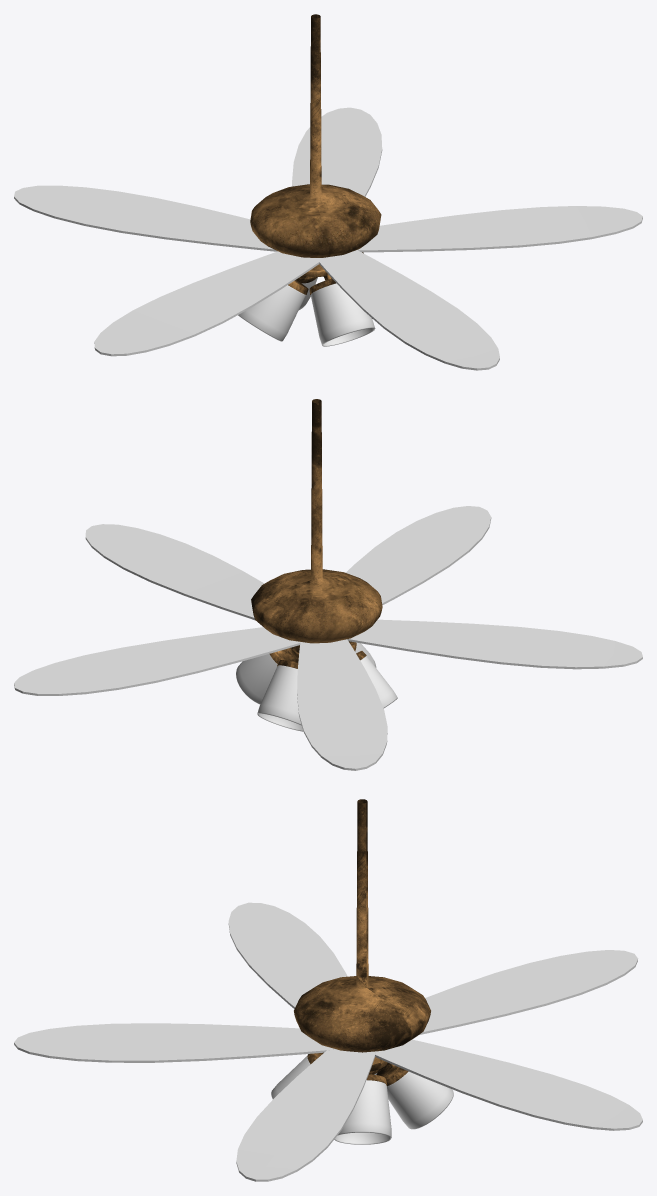
The model's file is ceilingFan.fbx.
The picture shows the model from 3 angles, top to bottom: view 1: azimuth 30°, elevation 25°; view 2: azimuth 150°, elevation 25°; view 3: azimuth 270°, elevation 25°; orthographic projection. The views are drawn at different scales.
Visible parts, largest first — view 1: ceilingFan, fanBlade4, fanBlade5, fanBlade, fanBlade3, fanBlade2, light, light.002; view 2: ceilingFan, fanBlade2, fanBlade4, fanBlade3, fanBlade, fanBlade5, light.003, light.001, light.002; view 3: ceilingFan, fanBlade2, fanBlade5, fanBlade, fanBlade3, fanBlade4, light.003, light.001.
Boxes of the visible parts, x1,y1,x2,y2 form: ceilingFan: (250,14,381,276); fanBlade4: (94,251,325,356); fanBlade5: (316,250,499,370); fanBlade: (357,206,642,252); fanBlade3: (14,185,277,251); fanBlade2: (292,107,382,196); light: (310,283,375,346); light.002: (238,285,305,341); ceilingFan: (251,399,382,658); fanBlade2: (14,627,302,695); fanBlade4: (347,619,642,669); fanBlade3: (297,639,387,770); fanBlade: (85,524,264,620); fanBlade5: (346,506,491,605); light.003: (257,665,303,731); light.001: (236,654,277,704); light.002: (360,656,397,708); ceilingFan: (294,799,430,1071); fanBlade2: (375,1039,642,1130); fanBlade5: (14,1023,336,1062); fanBlade: (236,1049,376,1181); fanBlade3: (419,950,637,1034); fanBlade4: (228,902,347,1008); light.003: (387,1071,453,1129); light.001: (334,1080,391,1144).
Bounding box in the file's own units: 411 × 224 × 394.
5 materials, 1 textured.
